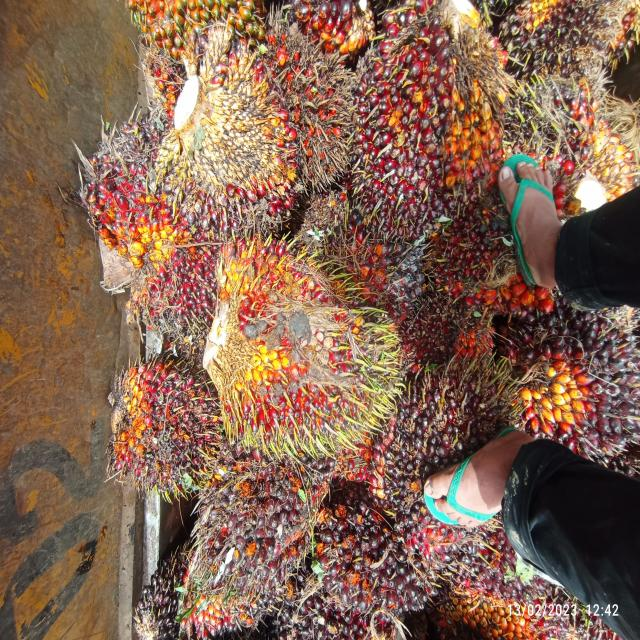fraksi 00: (376, 326, 530, 576)
fraksi 1: (338, 0, 502, 266), (499, 253, 640, 483), (85, 126, 233, 336), (192, 430, 337, 606), (314, 489, 427, 629)
fraksi 3: (204, 216, 393, 468), (86, 339, 244, 522)
fraksi 4: (253, 13, 364, 188)
